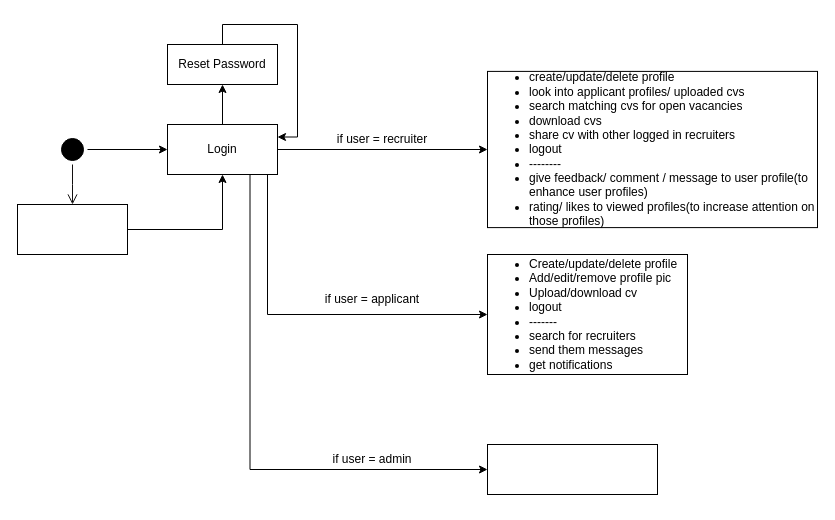
This 835x520 diagram has some shape labels left out. Each missing label, with the centre of its shape:
"Sign up" belongs at point (72, 229).
"view users block users" belongs at point (572, 469).
